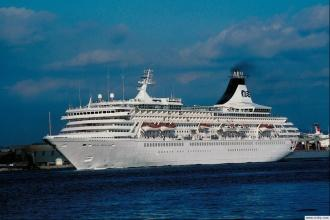youlun: (38, 59, 304, 174)
